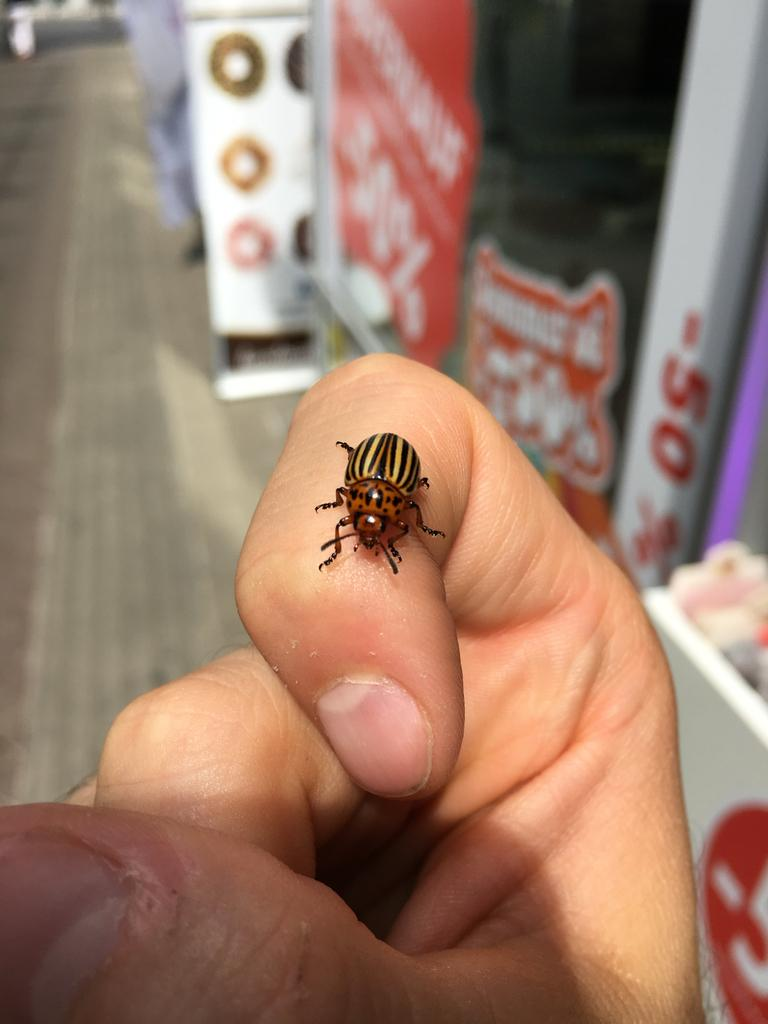potato_beetle: (291, 415, 457, 585)
